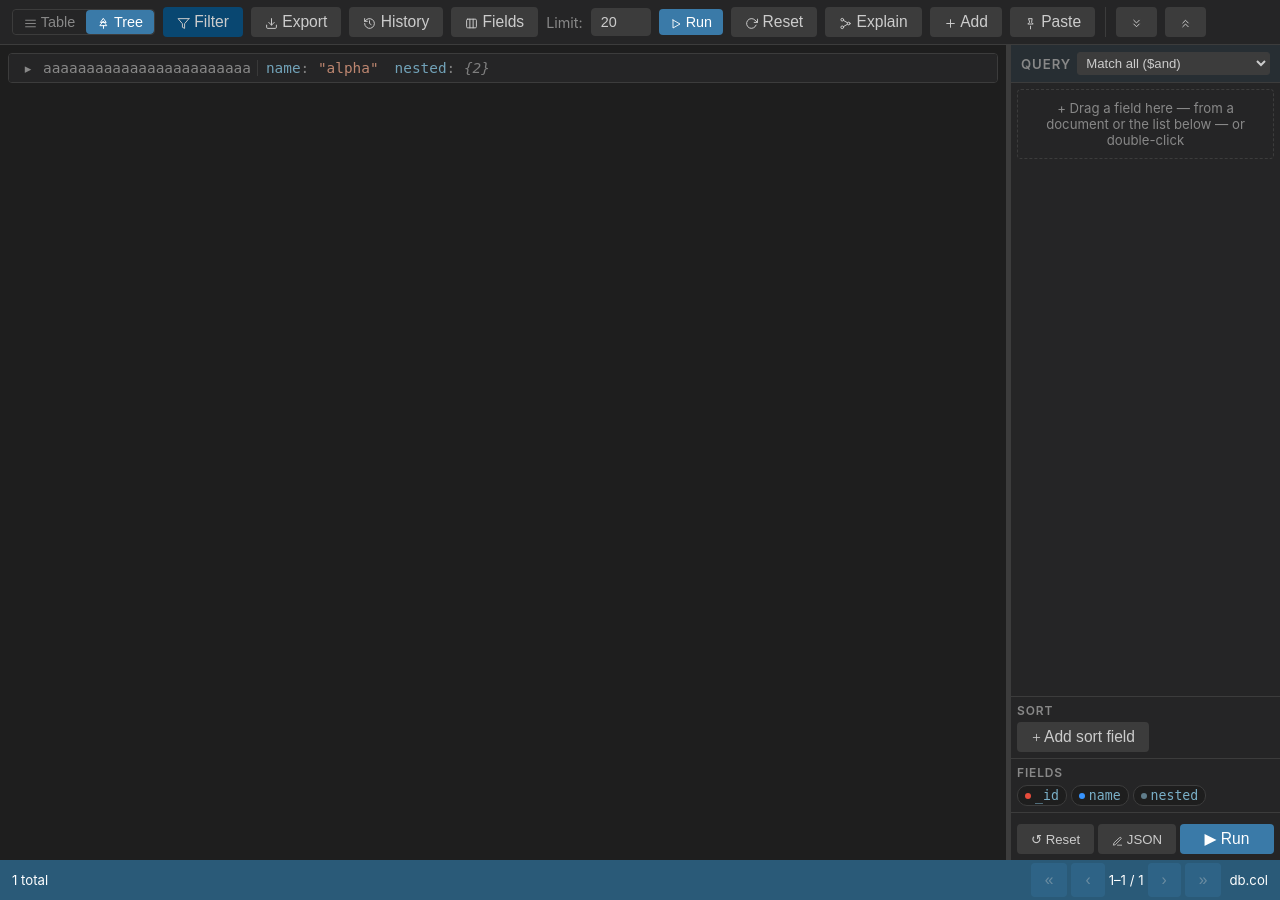
Test: DocumentsView — query history › re-runs a recalled filter and repopulates the builder
Step 1. Click the button "History" → (396, 22), box [349,7,443,37]
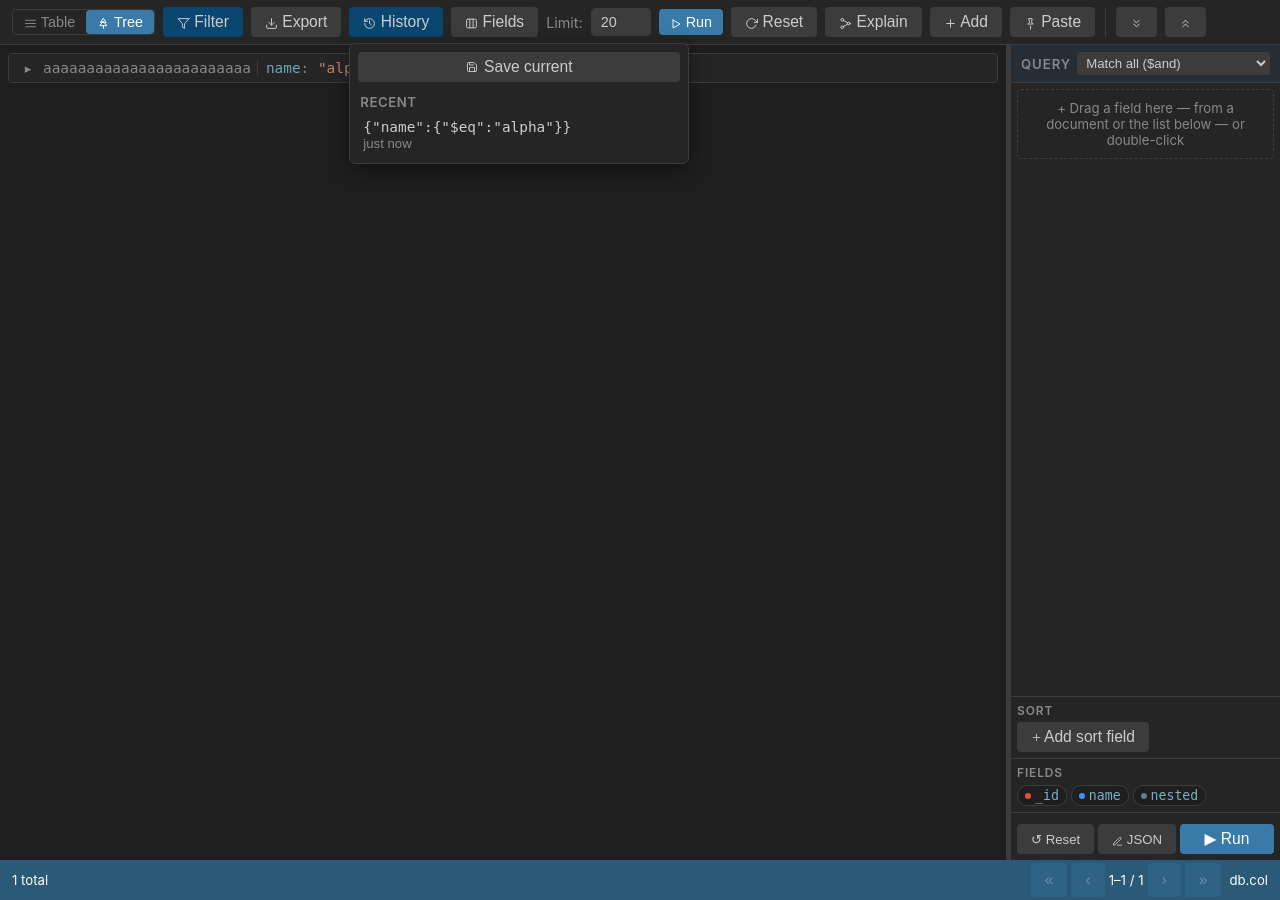
Step 2. Click the button titled "{\"name\":{\"$eq\":\"alpha\"}}" → (481, 135), box [358,115,604,155]
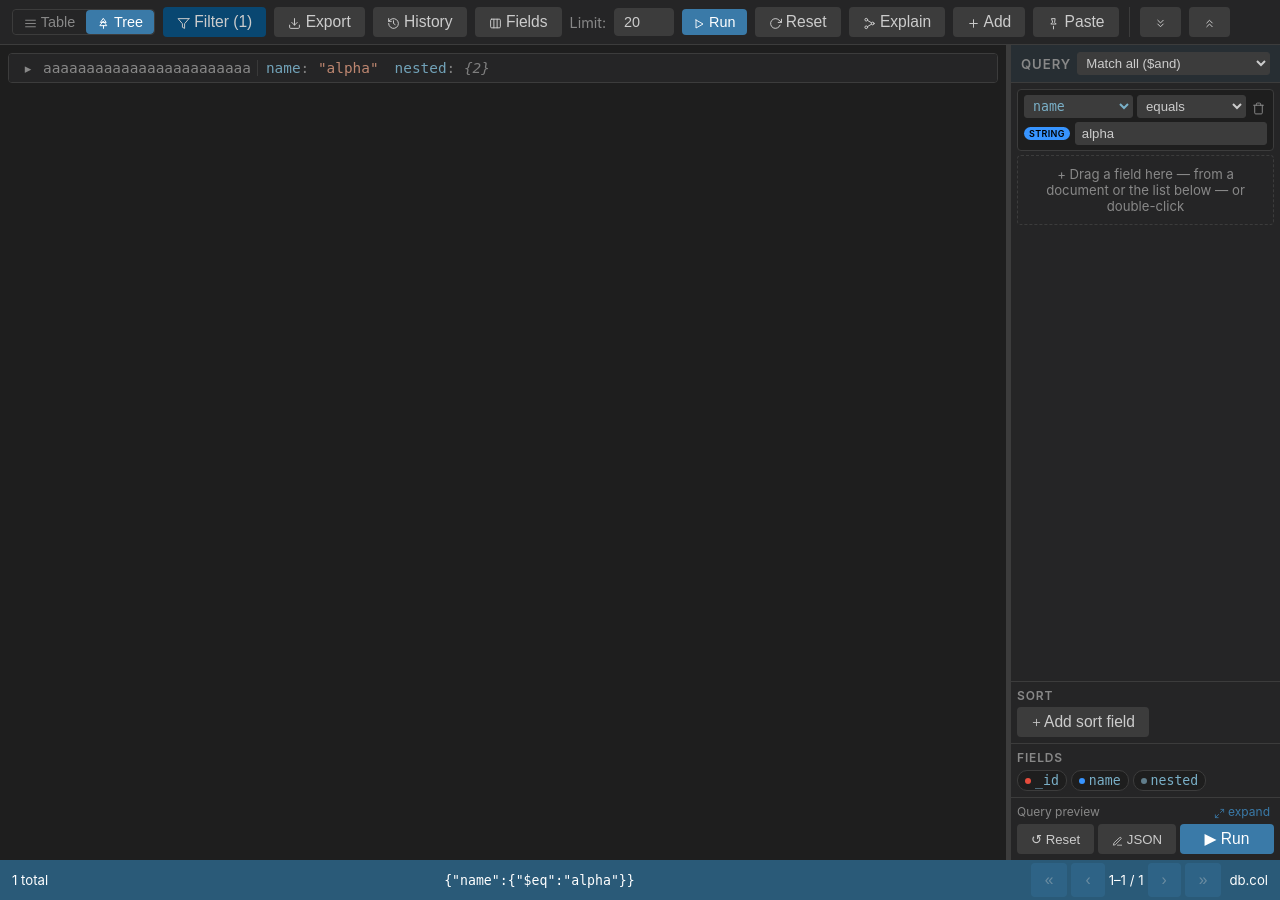
Result: the field showing "alpha" is shown at [1075,122,1267,145]
